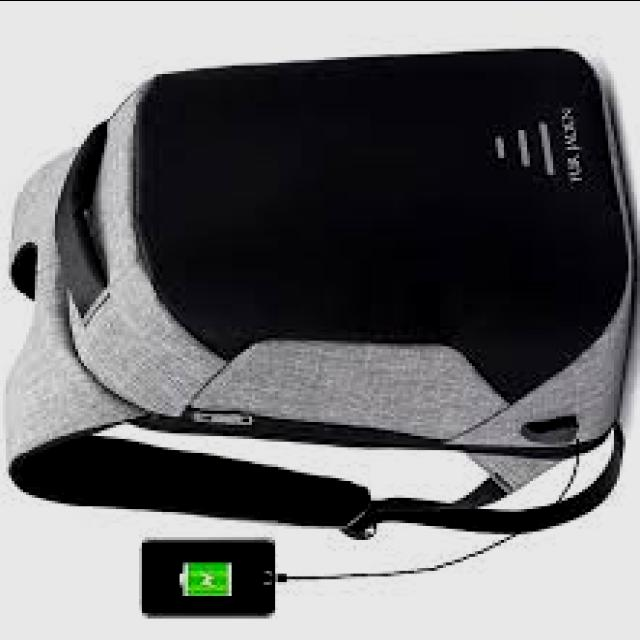backpack: (1, 49, 638, 549)
